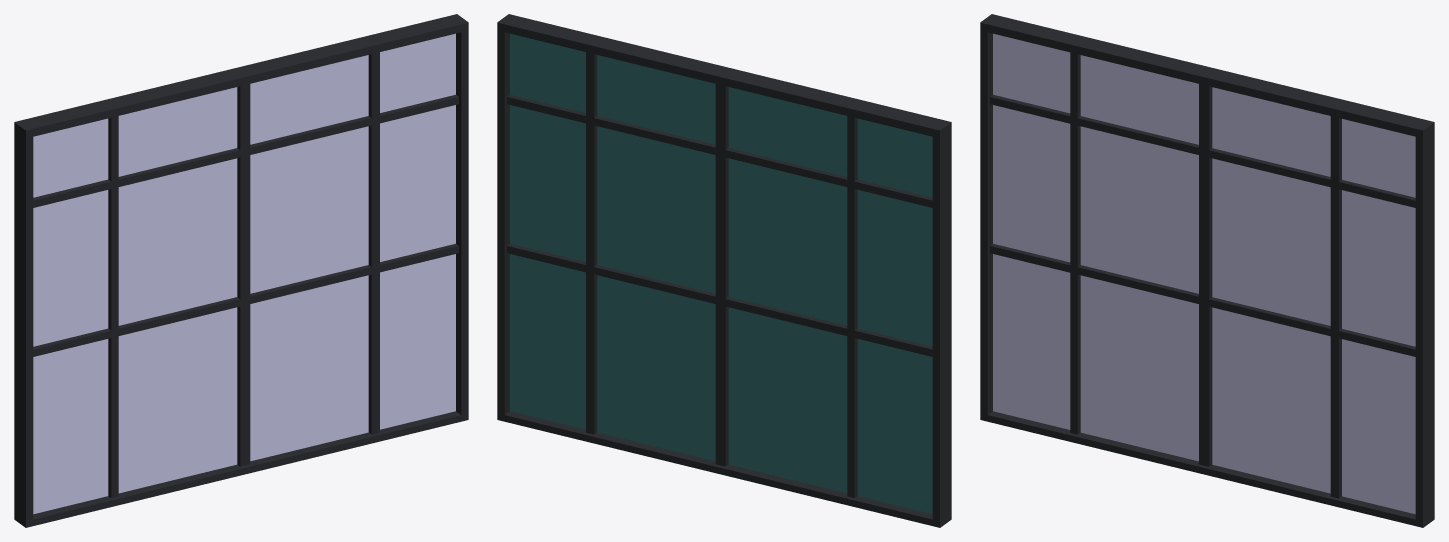
File: M_Window350x300White20-1.FBX
3 views of the same model, side by side, from view 1: azimuth 30°, elevation 25°; view 2: azimuth 150°, elevation 25°; view 3: azimuth 330°, elevation 25° (orthographic).
Parts seen in each view (by area): view 1: M_Window350x300White20-1; view 2: M_Window350x300White20-1; view 3: M_Window350x300White20-1.
Boxes of the visible parts, <box> form: M_Window350x300White20-1: <box>14,14,468,527</box>; M_Window350x300White20-1: <box>497,14,951,527</box>; M_Window350x300White20-1: <box>980,14,1434,527</box>.
Bounding box in the file's own units: 3.5 × 3 × 0.1598.
